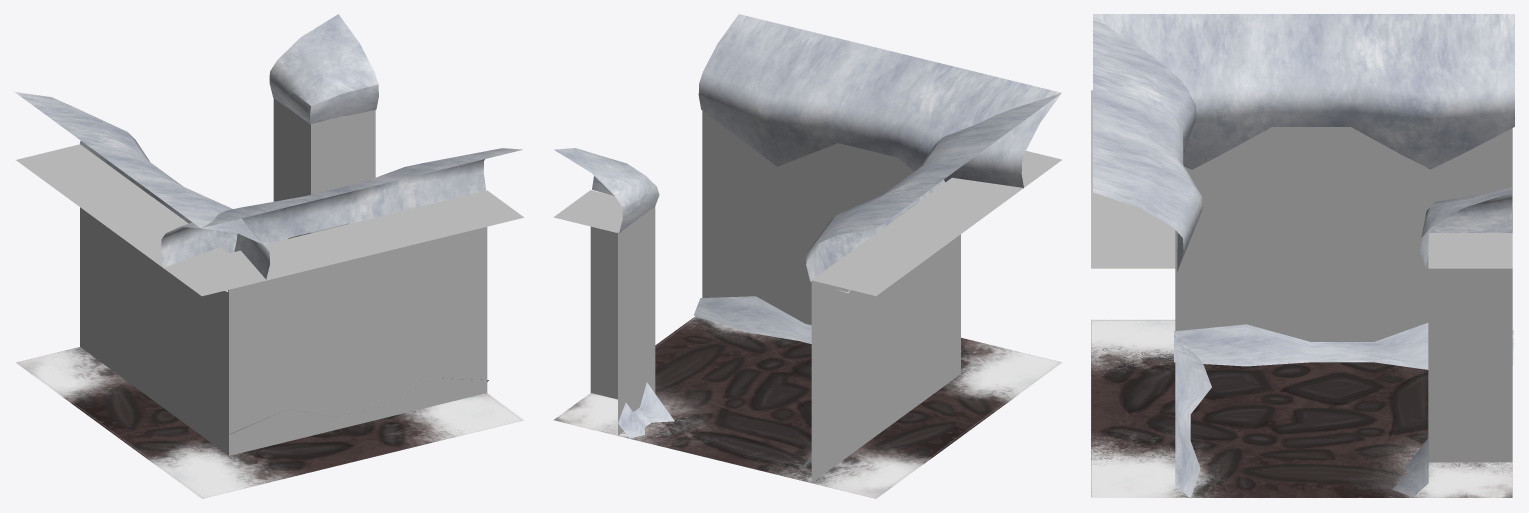
File: Mod_Wall_turn_2-5.fbx
3 views of the same model, side by side, from view 1: azimuth 30°, elevation 25°; view 2: azimuth 150°, elevation 25°; view 3: azimuth 270°, elevation 25° (orthographic). The views are drawn at different scales.
Parts seen in each view (by area): view 1: Wall_Turn_polySurface1; view 2: Wall_Turn_polySurface1; view 3: Wall_Turn_polySurface1.
Part boxes in pixels (x1,y1,x2,y2): Wall_Turn_polySurface1: (15,14,523,498); Wall_Turn_polySurface1: (553,14,1062,498); Wall_Turn_polySurface1: (1091,14,1514,498).
Size of the model in its own units: 101 by 79.98 by 100.
